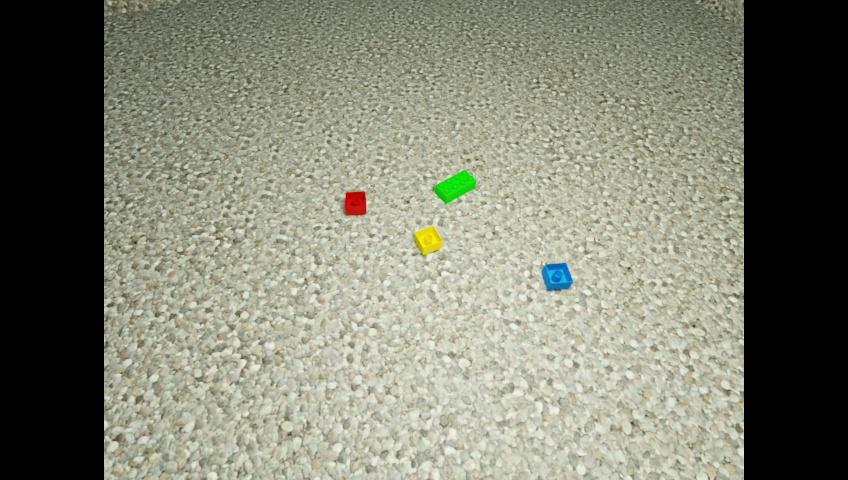2x2_blue: (541, 261, 572, 289)
2x2_red: (344, 191, 365, 215)
2x2_yellow: (415, 225, 442, 255)
4x2_green: (434, 168, 475, 203)
